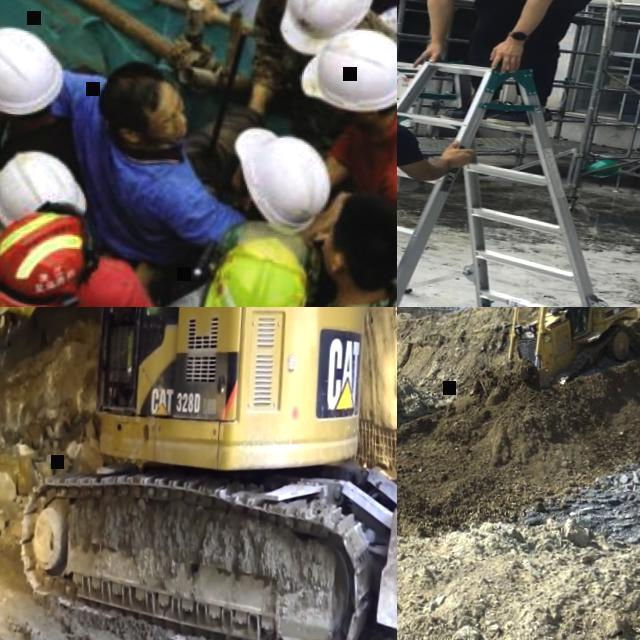helmet: (222, 112, 340, 244), (186, 229, 323, 307), (0, 0, 80, 126), (0, 207, 91, 305), (298, 26, 397, 115), (0, 144, 95, 229), (279, 0, 386, 65)
machinery: (0, 307, 397, 640), (506, 307, 640, 389)
no_helmet: (333, 195, 397, 281), (98, 58, 166, 124)
no_mask: (164, 118, 192, 149), (322, 242, 342, 272)
no_vest: (68, 114, 188, 266), (330, 115, 397, 240), (12, 90, 81, 174), (262, 0, 316, 100), (52, 263, 138, 307)
person: (31, 41, 252, 277), (397, 0, 611, 130), (287, 24, 397, 251), (397, 38, 486, 307), (248, 0, 397, 144), (0, 22, 103, 199), (0, 208, 177, 307), (224, 109, 340, 245), (307, 193, 397, 307), (115, 307, 173, 408)
vest: (147, 307, 168, 317)
